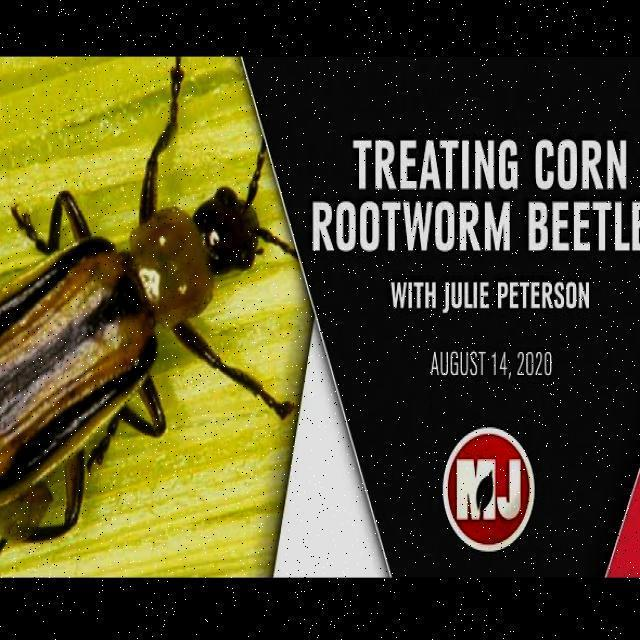trips: (0, 56, 300, 574)
